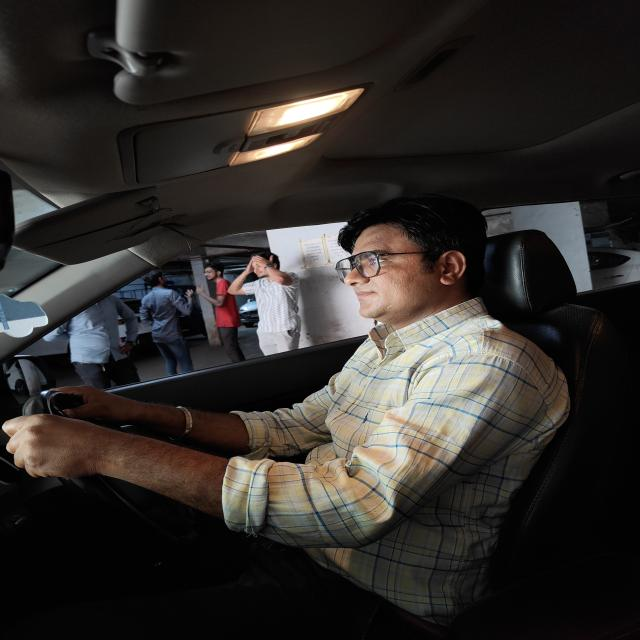no-seatbelt: (231, 297, 613, 640)
